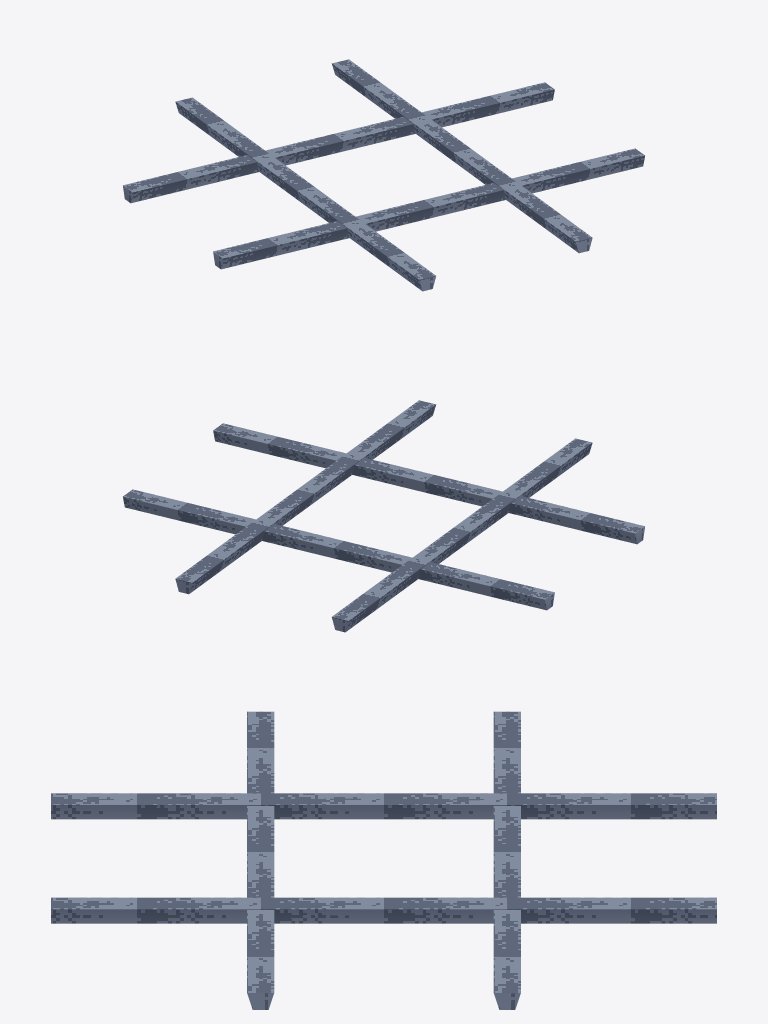
Rendered from stn.ceiling.glb.
3 views of the same model, one above another, from view 1: azimuth 30°, elevation 25°; view 2: azimuth 150°, elevation 25°; view 3: azimuth 270°, elevation 25° (orthographic). The views are drawn at different scales.
Visible parts, largest first — view 1: kit_beams; view 2: kit_beams; view 3: kit_beams.
Part boxes in pixels (left/top/right/bottom): kit_beams: left=123, top=59, right=644, bottom=291; kit_beams: left=123, top=400, right=644, bottom=632; kit_beams: left=51, top=711, right=716, bottom=1009.
Bounding box in the file's own units: 12 × 0.32 × 12.
Materials: 3 (3 with a texture image).
